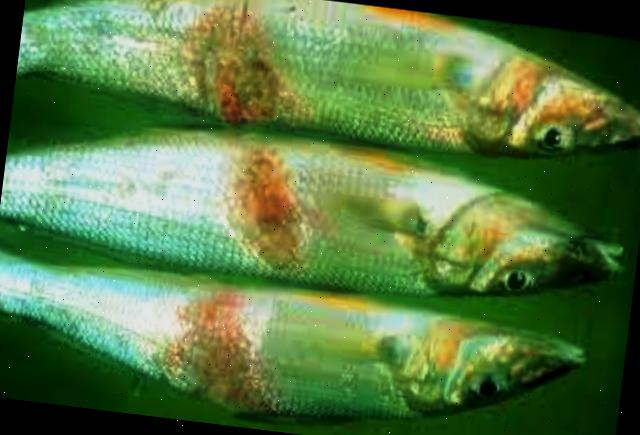Epizootic Ulcerative Syndrome -EUS-: (0, 130, 622, 296), (1, 134, 622, 294), (18, 0, 640, 156), (0, 256, 583, 419)
